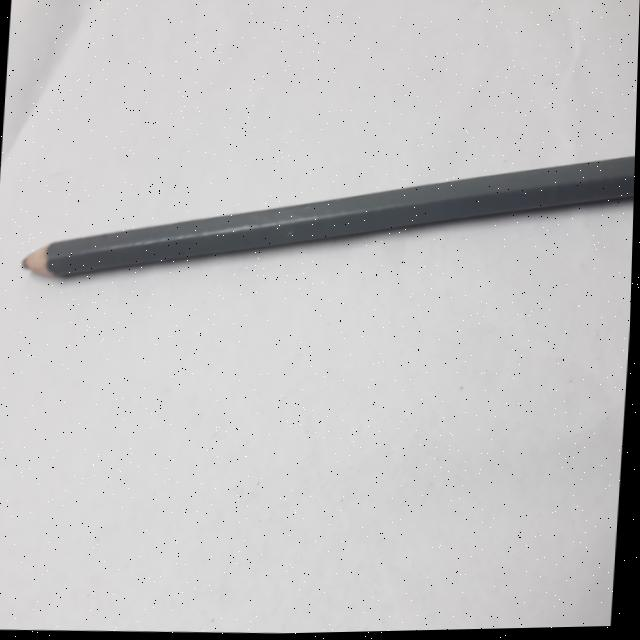pencil: (14, 121, 637, 311)
